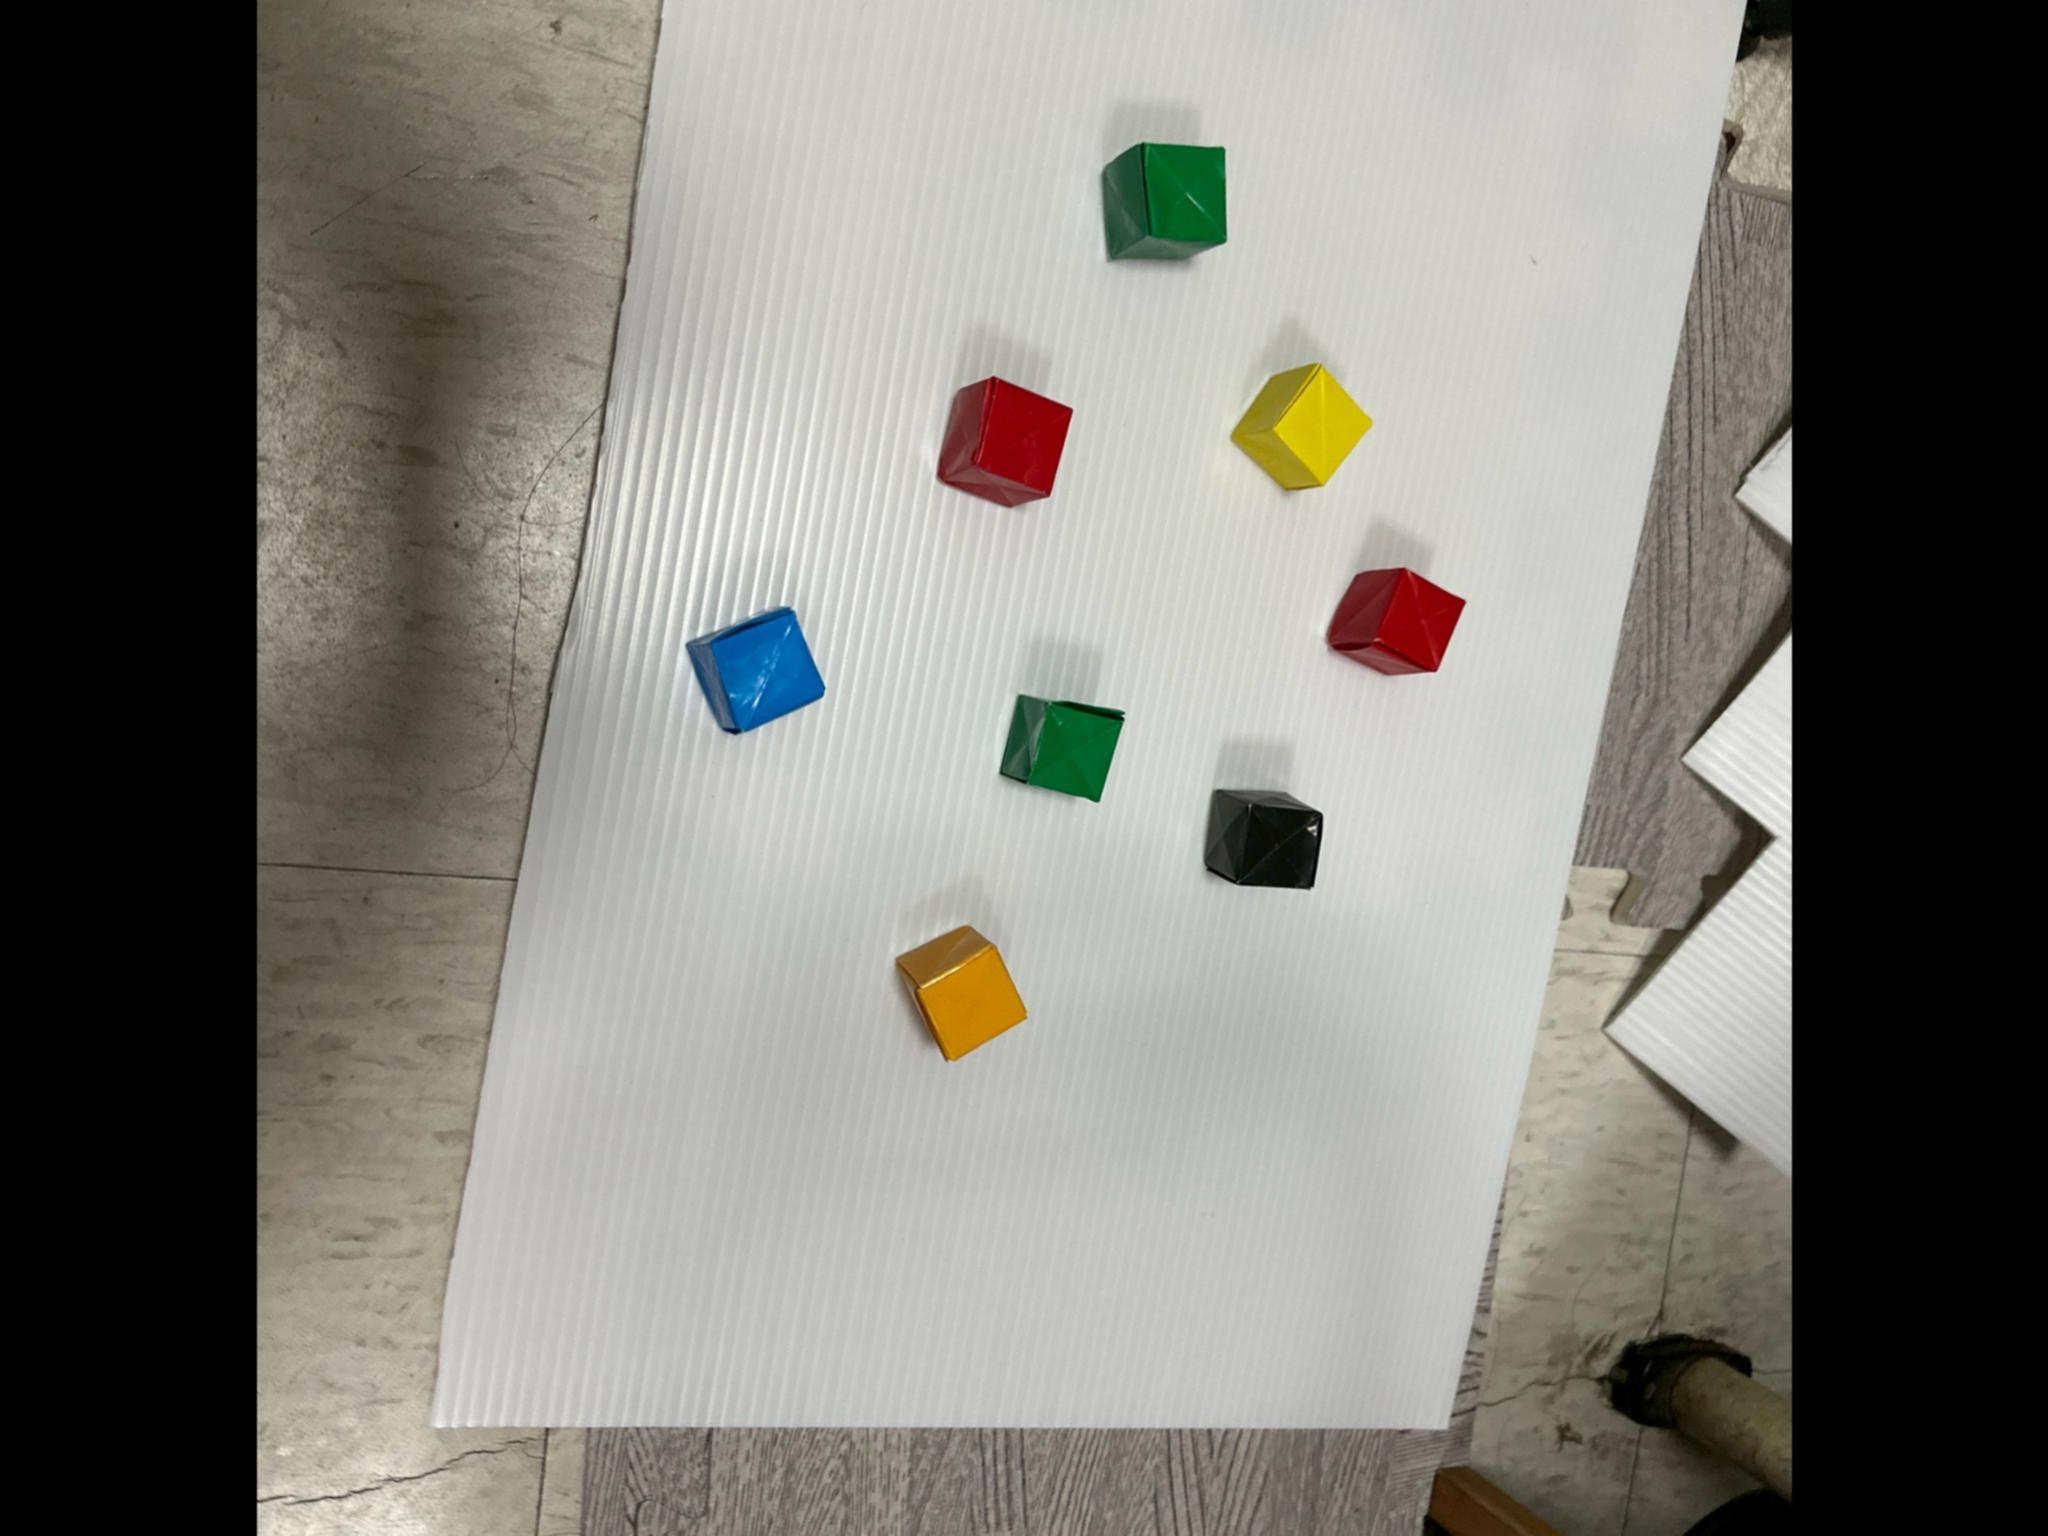cube: (1232, 365, 1371, 490), (895, 928, 1026, 1060), (937, 378, 1071, 507), (685, 608, 822, 734), (1327, 570, 1464, 676), (1103, 144, 1224, 260), (1000, 695, 1124, 802), (1203, 789, 1322, 889)
